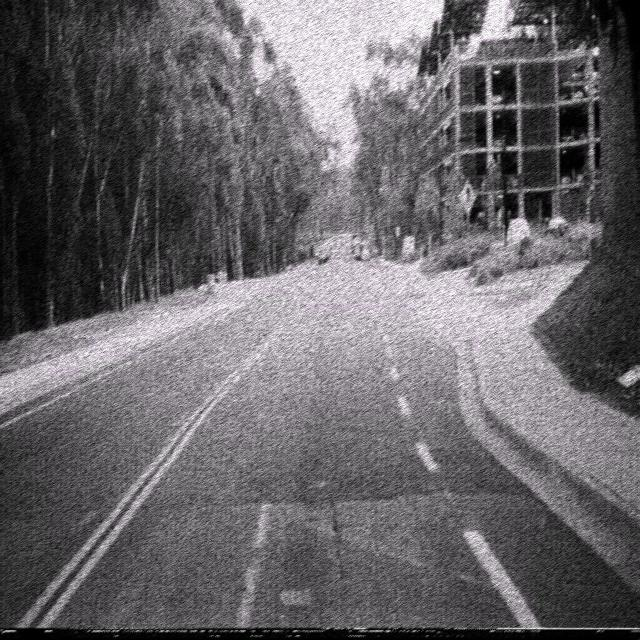pedestrianCrossing: (458, 178, 476, 212)
